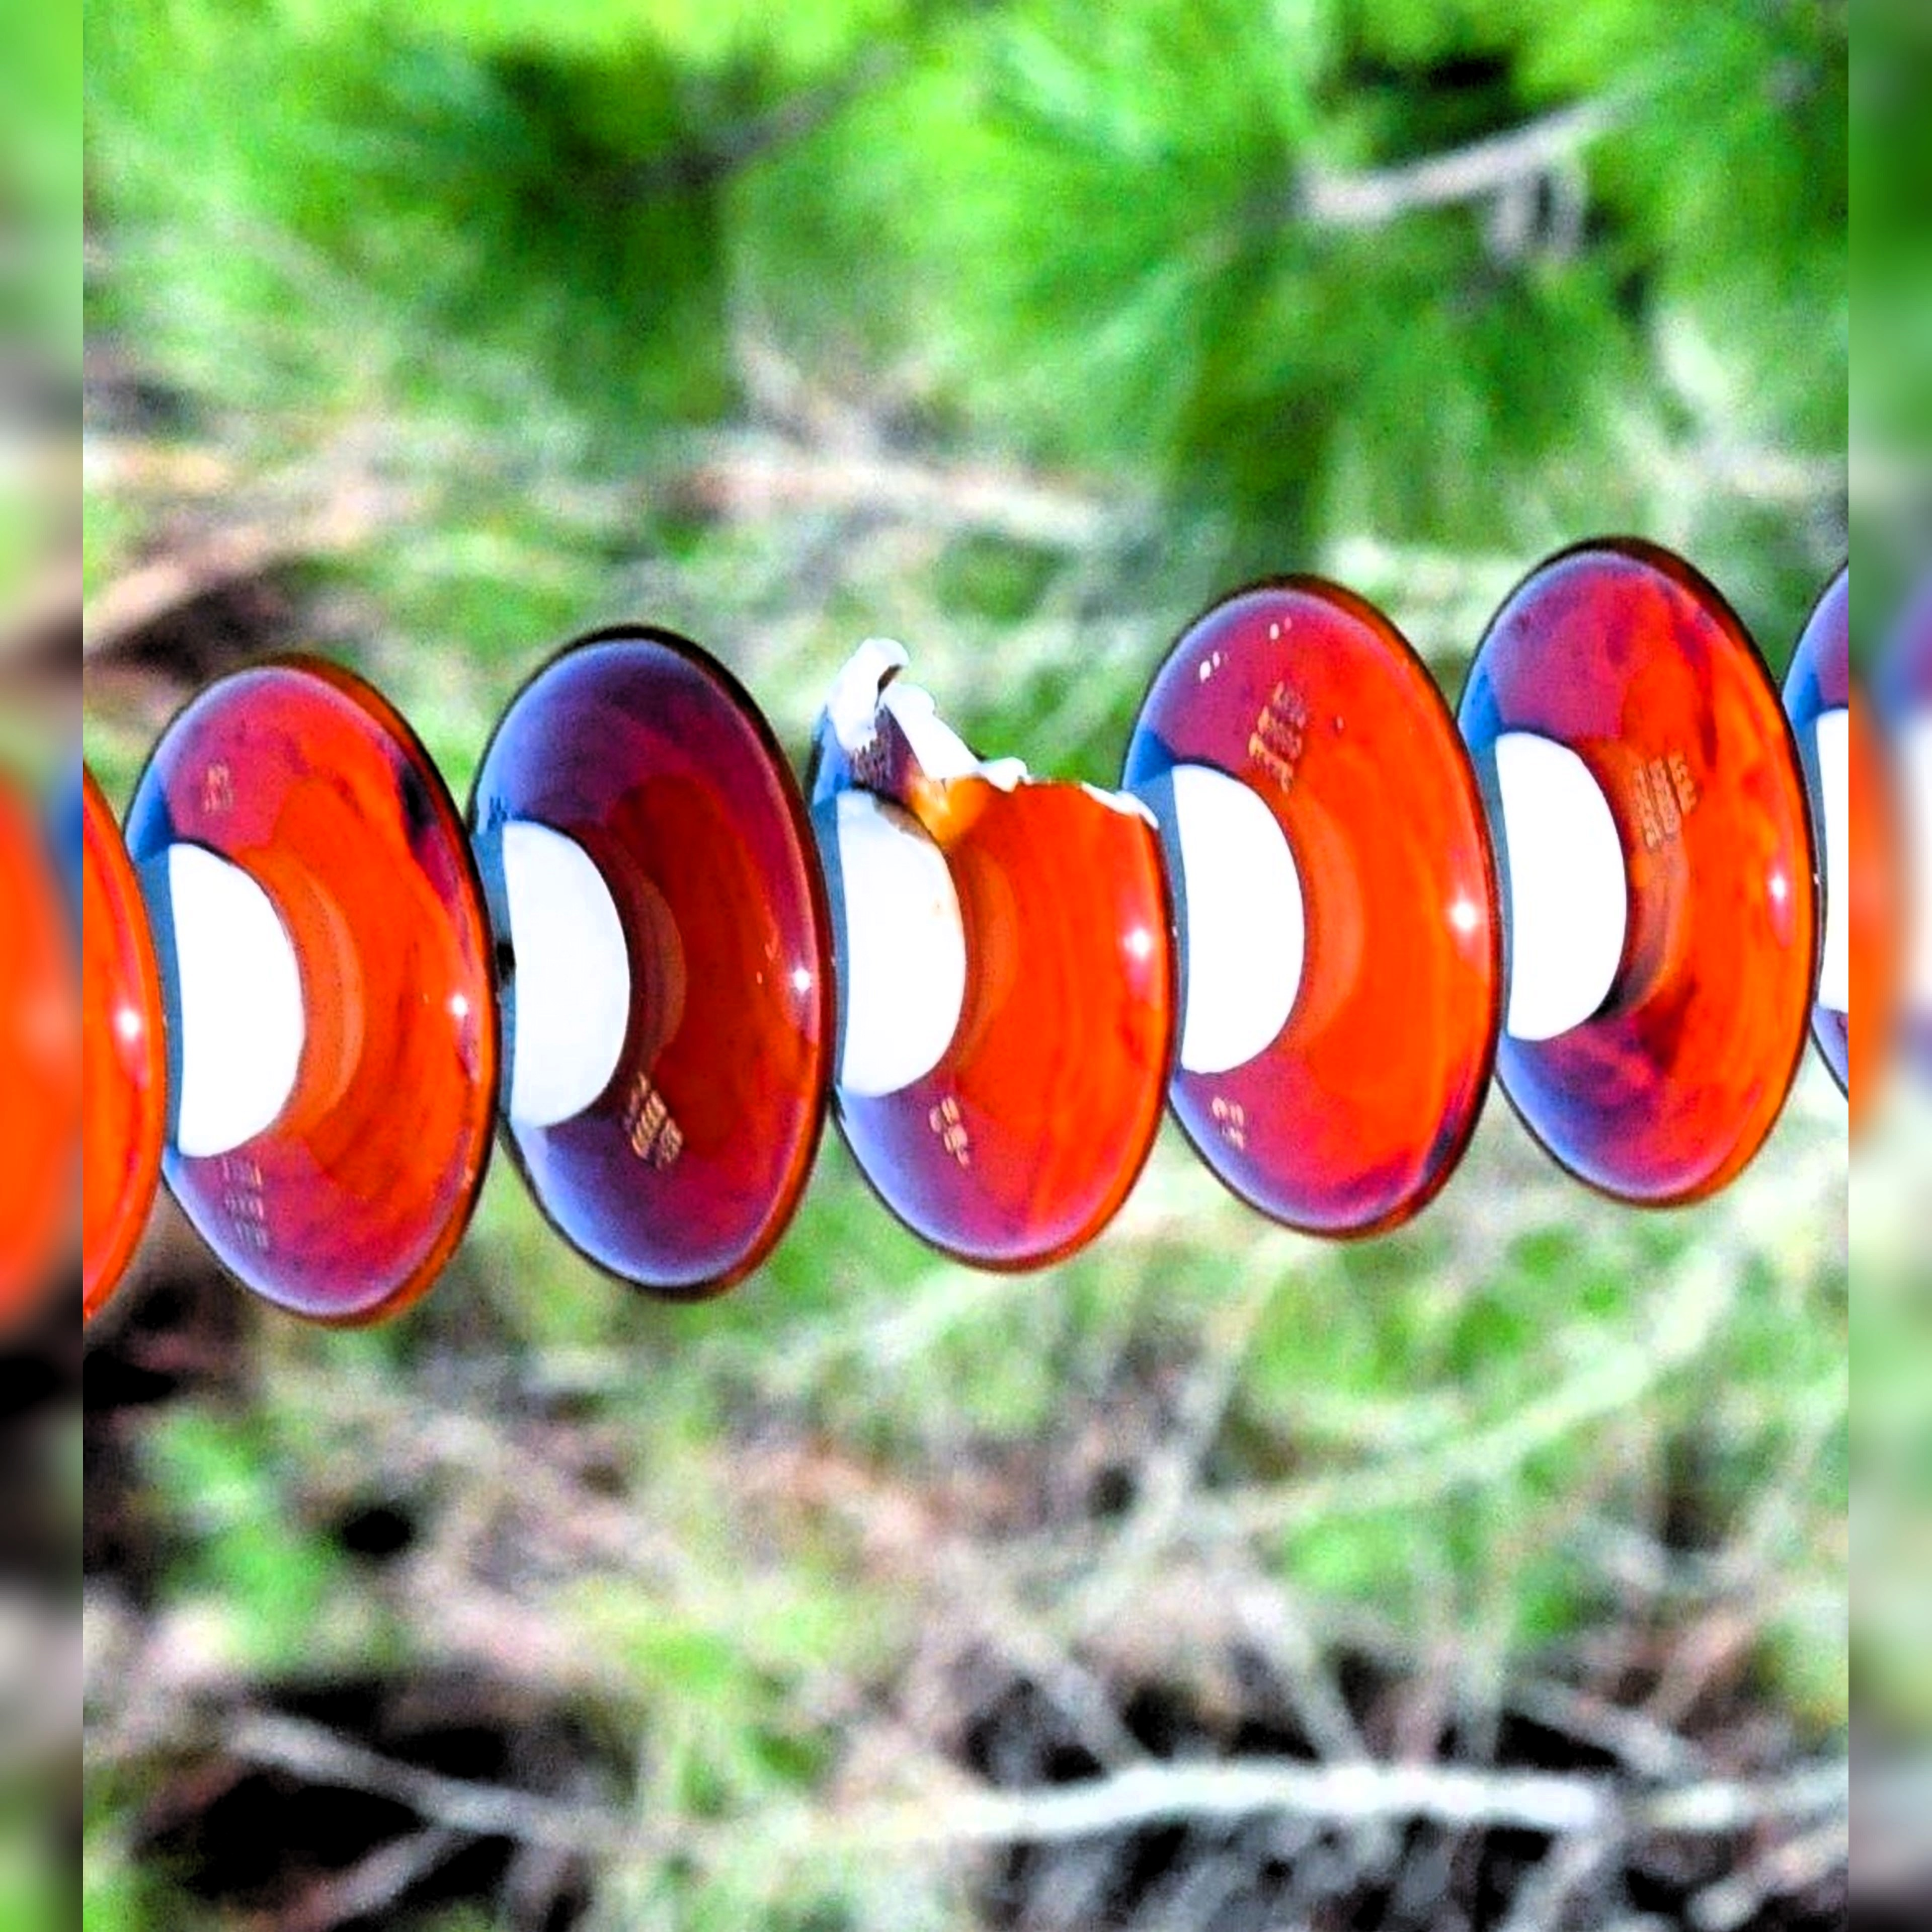insulator breakage: (782, 621, 1198, 1290)
